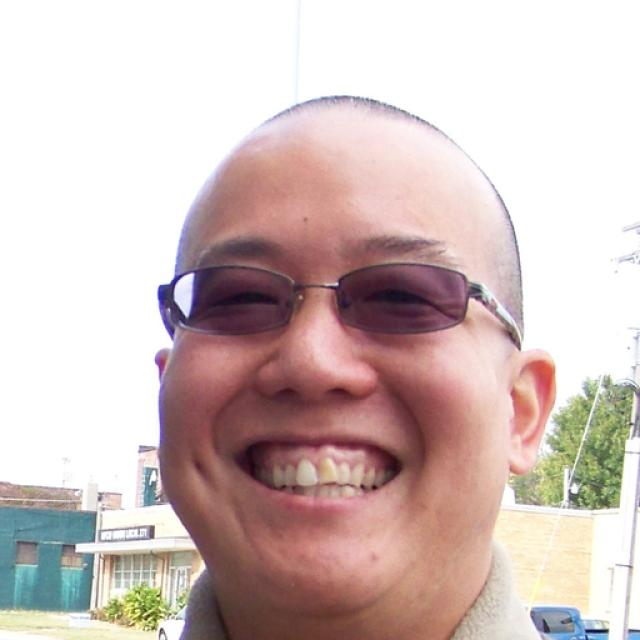Acne: (370, 548, 385, 567)
